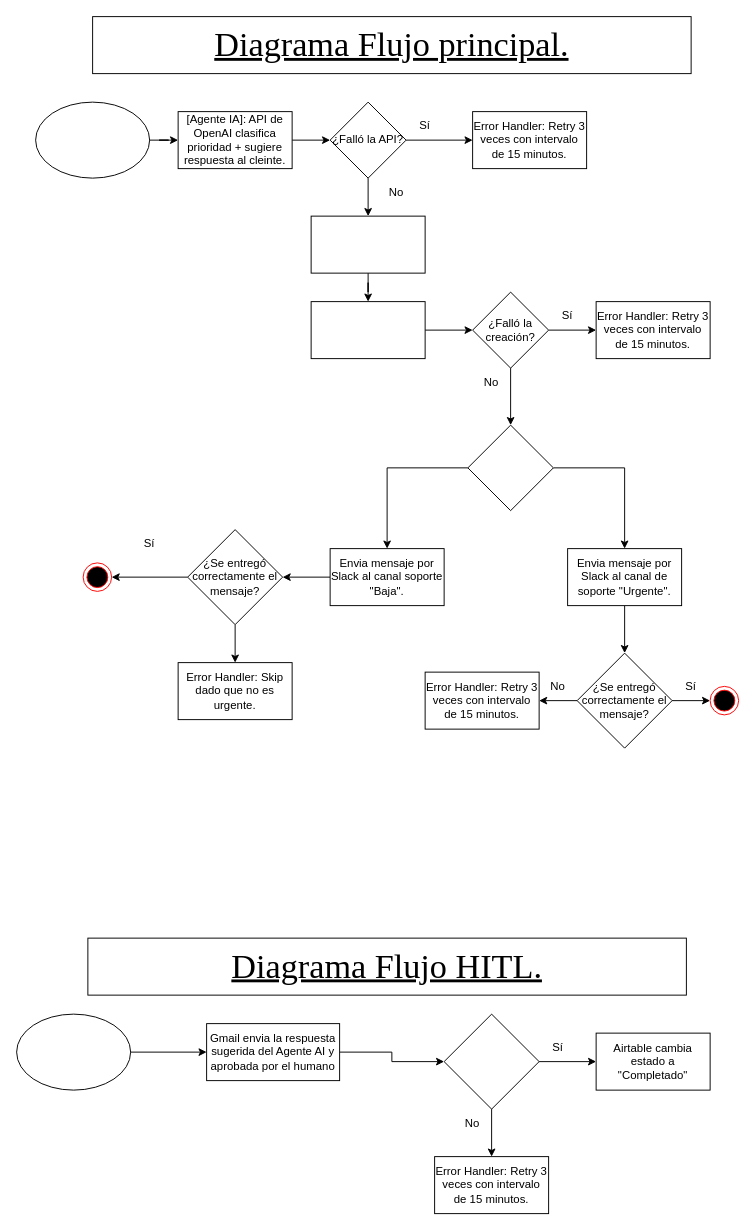
The diagram is 755 pixels wide and 1230 high, and some of its shapes have lost their labels. The centre of each missing label's shape, as x and y in pixels:
[Trigger]: Hay un registro analizado por IA y aprobado por un humano.: (x=73, y=1051)
[Trigger]: llega un email de cliente: (x=92, y=139)
Airtable crea nuevo ticket con estado "Procesado por IA": (x=367, y=330)
Json Parse: divide variables individualmente: (x=367, y=244)
¿Prioridad alta o baja?: (x=510, y=467)
¿Se realizó correctamente el envio?: (x=491, y=1061)
